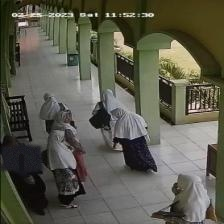Cadar_Niqab: (0, 133, 42, 170)
